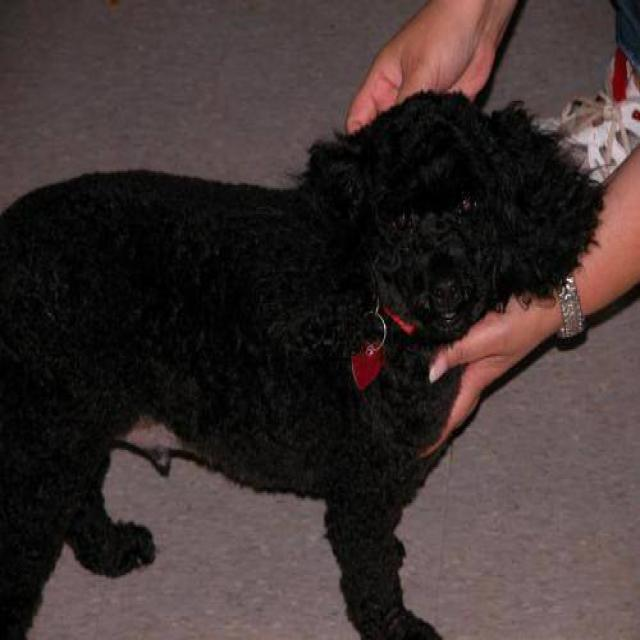dog: (0, 85, 605, 638)
